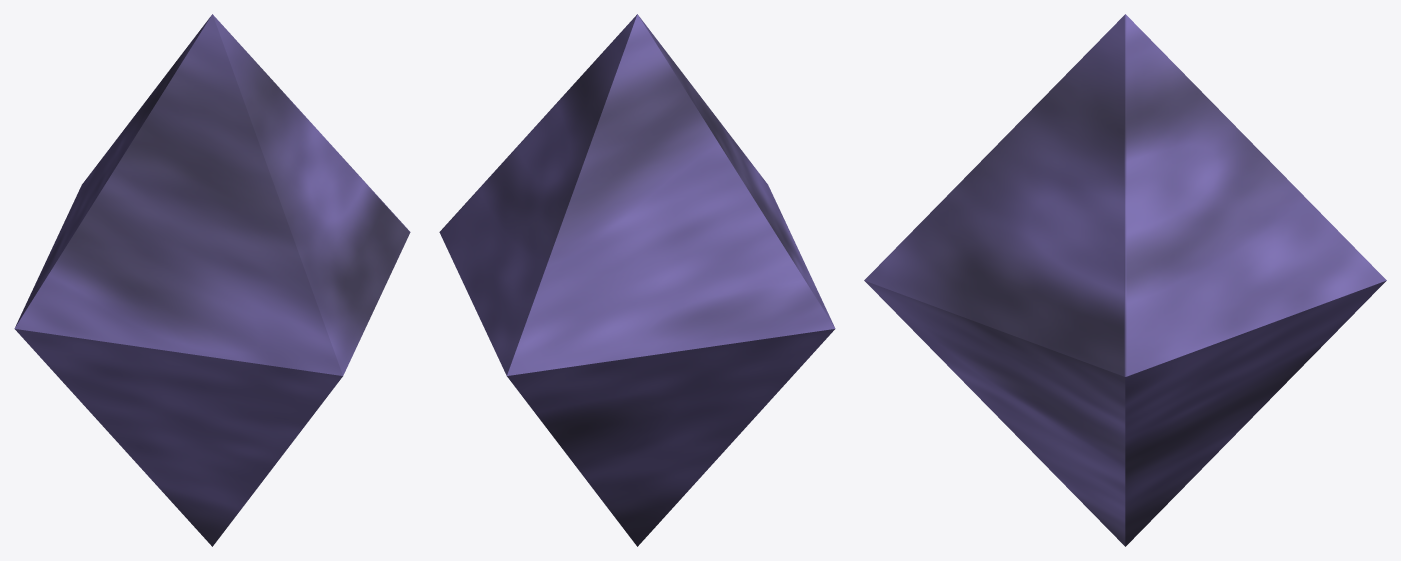
3 views of the same model, side by side, from view 1: azimuth 30°, elevation 25°; view 2: azimuth 150°, elevation 25°; view 3: azimuth 270°, elevation 25° (orthographic).
Visible parts, largest first — view 1: geometry_0; view 2: geometry_0; view 3: geometry_0.
Part boxes in pixels (box(x1,y1,x2,y2)): geometry_0: box(14, 14, 410, 546); geometry_0: box(439, 14, 835, 546); geometry_0: box(864, 14, 1386, 546).
Bounding box in the file's own units: 1.45 × 1.87 × 1.66.
Materials: 1 (1 with a texture image).
